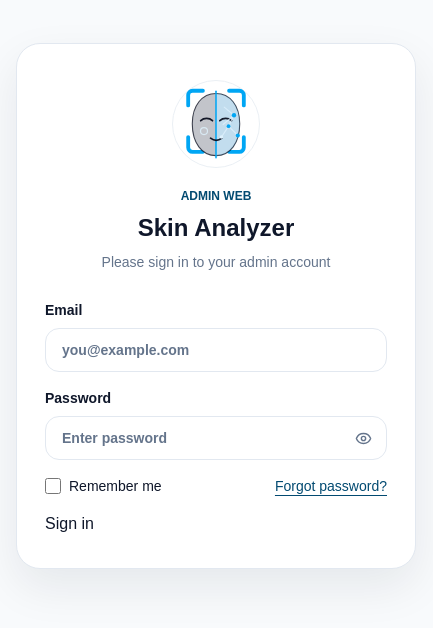
Test case: LoginPage auth behavior › shows a safe login error message on failed login
In the field labelled "Email": (216, 350) [45, 328, 387, 372], type "admin@example.com"
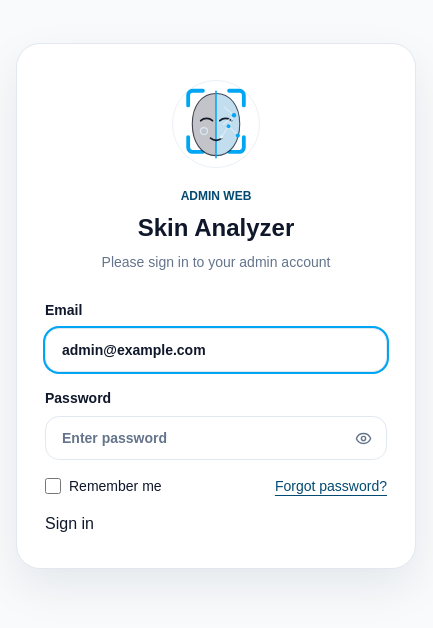
In the password field labelled "Password": (216, 438) [45, 416, 387, 460], type "test-password"
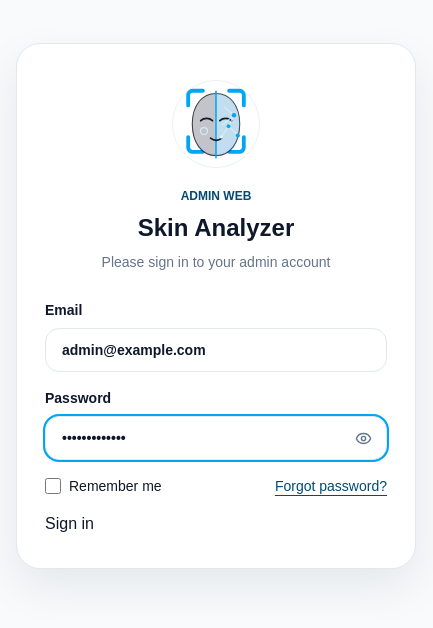
Click the button "Sign in": (69, 524) [45, 512, 94, 536]
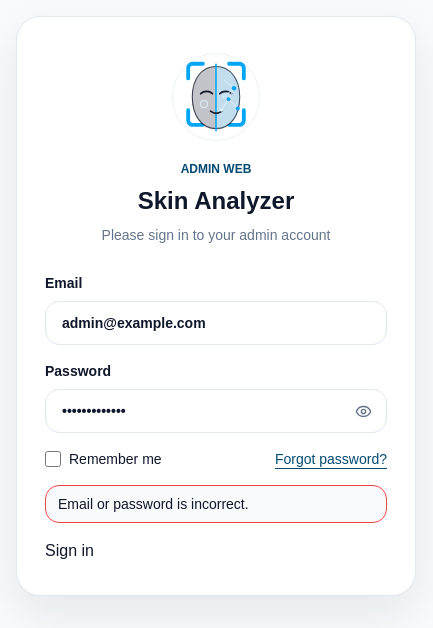
expect the text "Email or password is incorrect." is shown: met, box [45, 485, 387, 523]
